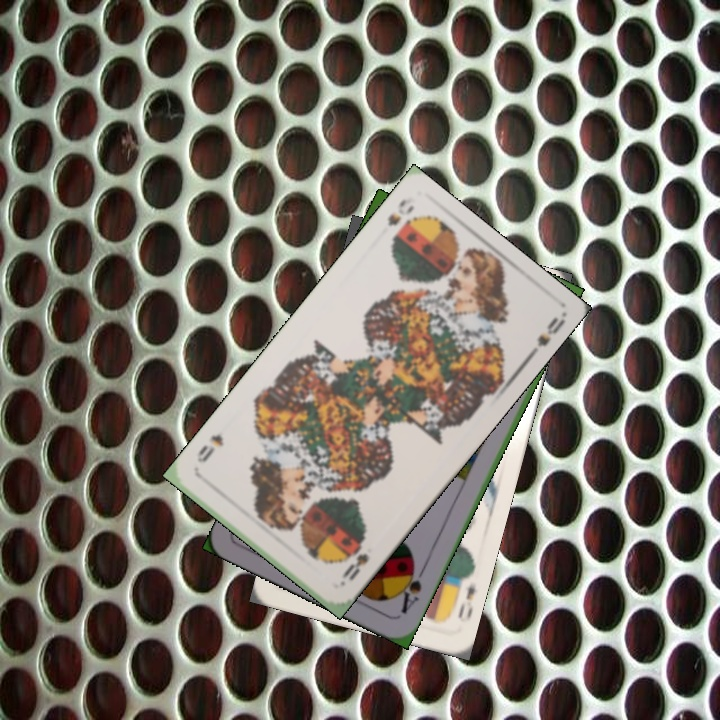EO: (448, 572, 478, 621)
SA: (394, 558, 429, 617)
SO: (337, 549, 372, 584), (383, 194, 417, 229)
